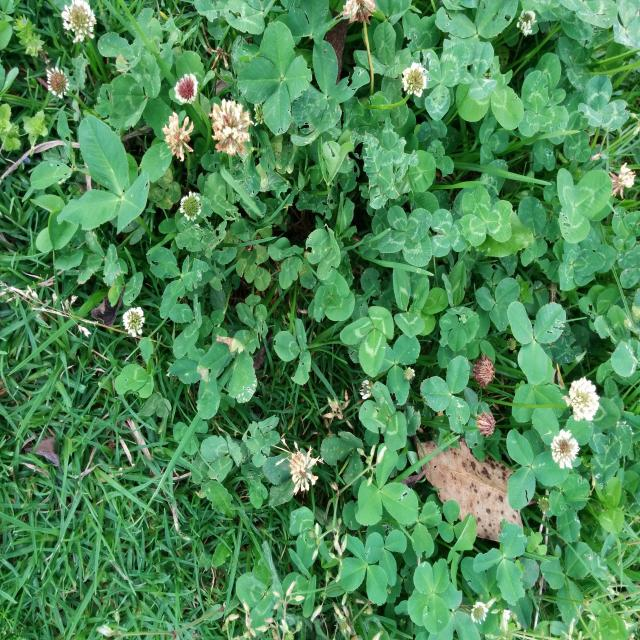Four Leaf Clover: (237, 21, 311, 136)
